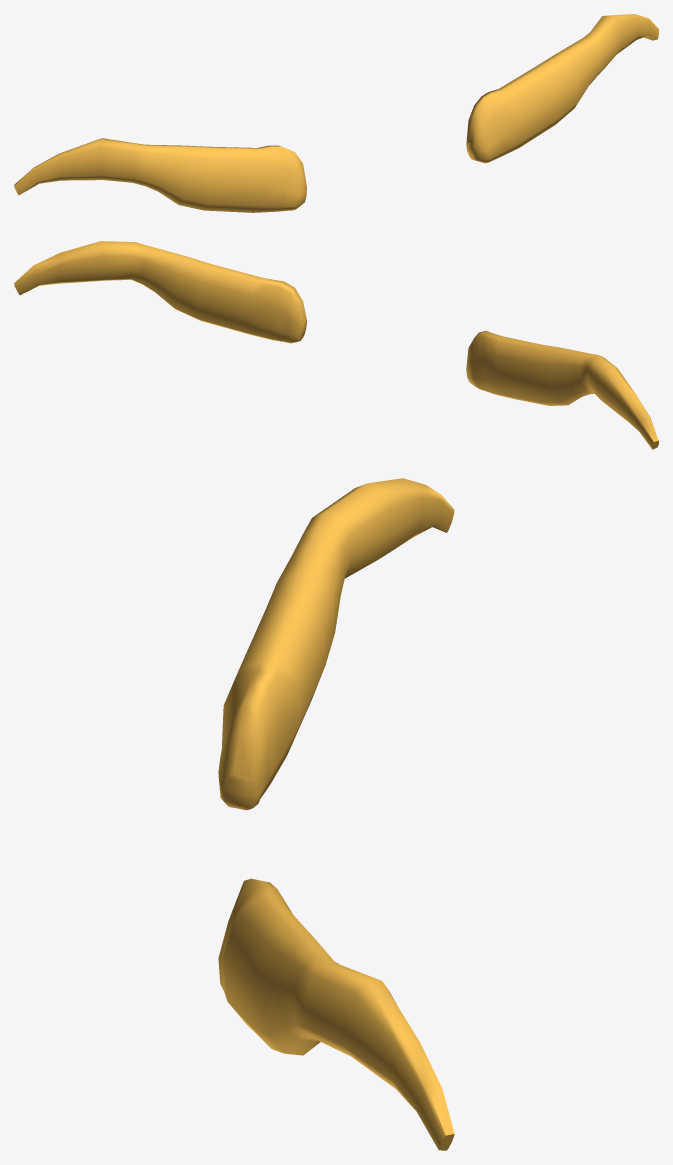
File: Eyebrows_07_05.fbx
3 renders of one model, top to bottom at view 1: azimuth 30°, elevation 25°; view 2: azimuth 150°, elevation 25°; view 3: azimuth 270°, elevation 25°, orthographic. The views are drawn at different scales.
Parts seen in each view (by area): view 1: Eyebrows_07_05; view 2: Eyebrows_07_05; view 3: Eyebrows_07_05.
Boxes of the visible parts, x1=… form: Eyebrows_07_05: x1=14, y1=14, x2=658, y2=212; Eyebrows_07_05: x1=14, y1=241, x2=658, y2=449; Eyebrows_07_05: x1=218, y1=478, x2=454, y2=1150.
Bounding box in the file's own units: 19.46 × 2.46 × 3.09.
